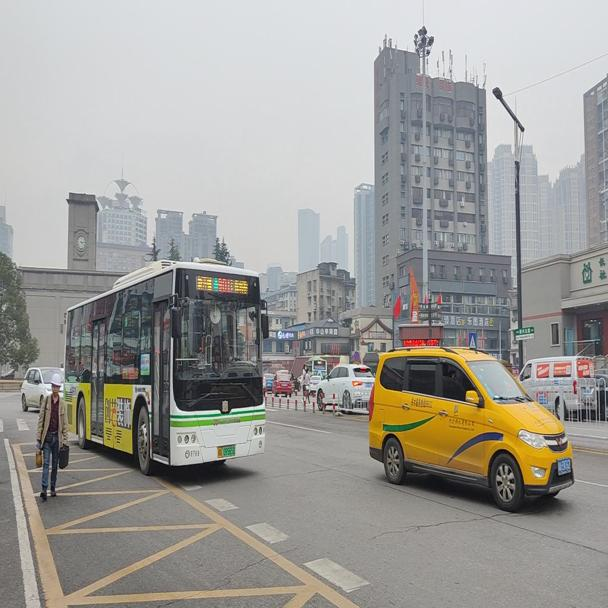bus: (61, 253, 269, 474)
screen: (218, 276, 229, 293)
